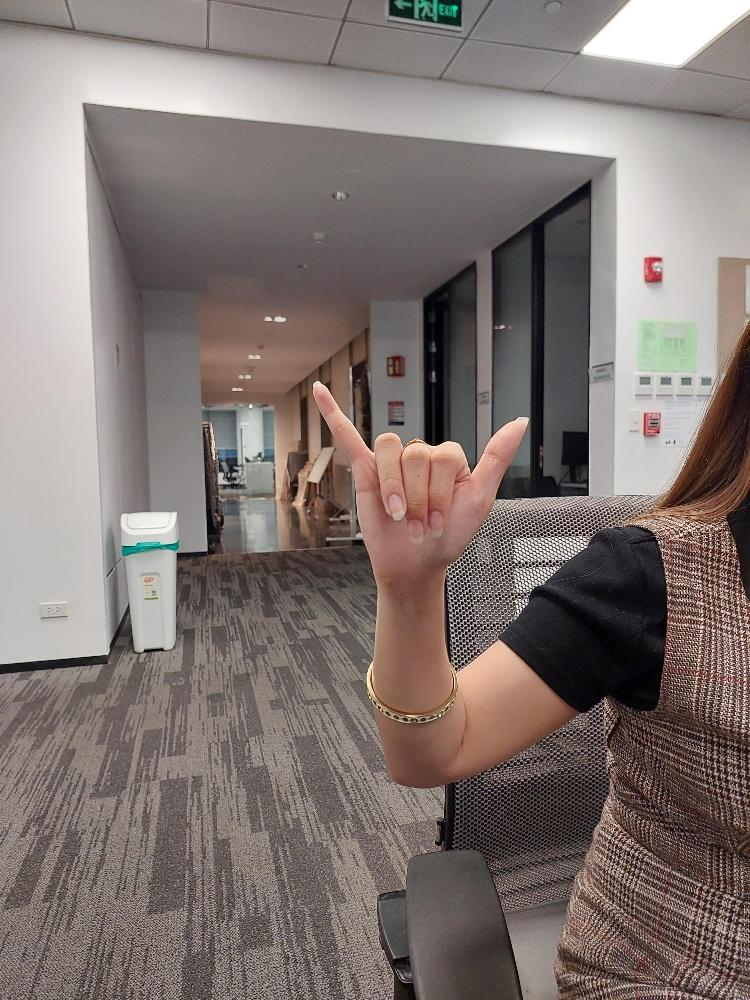y: (309, 375, 534, 578)
